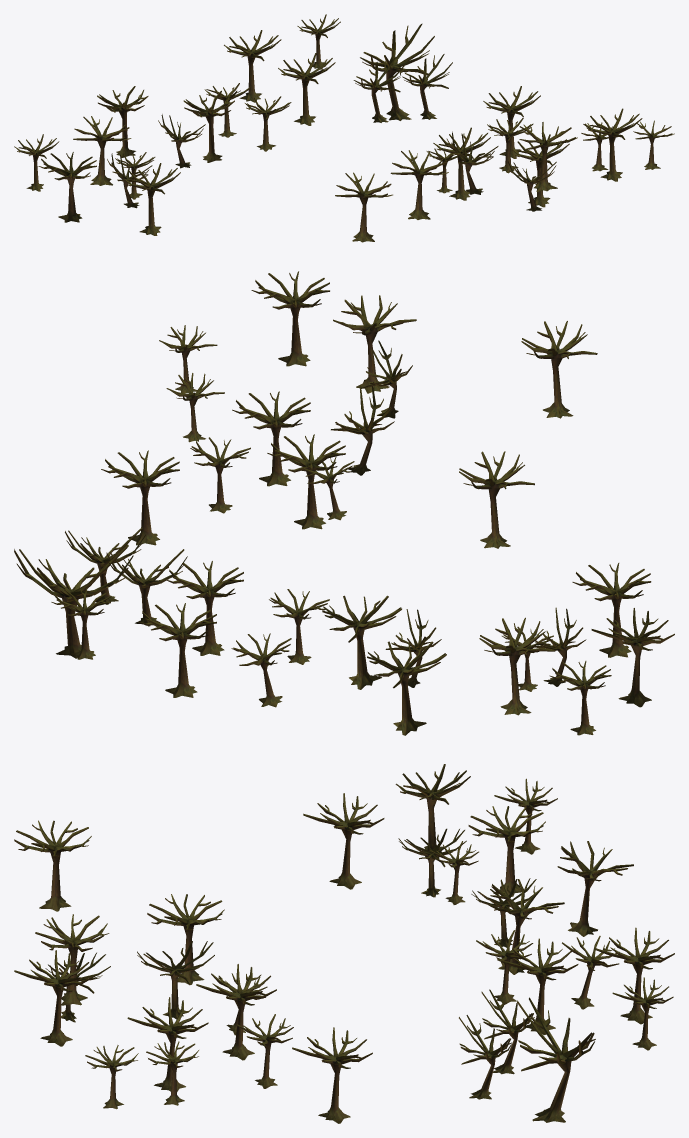
File: Tree_Block2.FBX
3 renders of one model, top to bottom at view 1: azimuth 30°, elevation 25°; view 2: azimuth 150°, elevation 25°; view 3: azimuth 270°, elevation 25°, orthographic. The views are drawn at different scales.
Visible parts, largest first — view 1: Tree:Tree134; view 2: Tree:Tree134; view 3: Tree:Tree134.
Boxes of the visible parts, <box> form: Tree:Tree134: <box>14,14,674,242</box>; Tree:Tree134: <box>14,271,674,735</box>; Tree:Tree134: <box>14,764,674,1123</box>.
Size of the model in its own units: 195 by 51.57 by 172.
